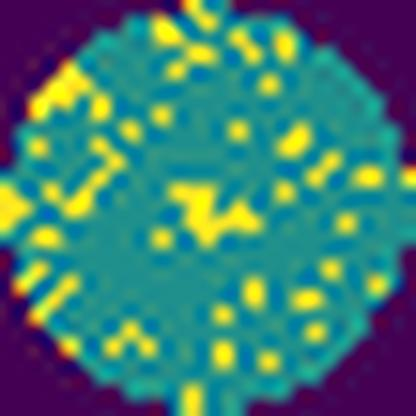Center: (172, 182, 262, 247)
